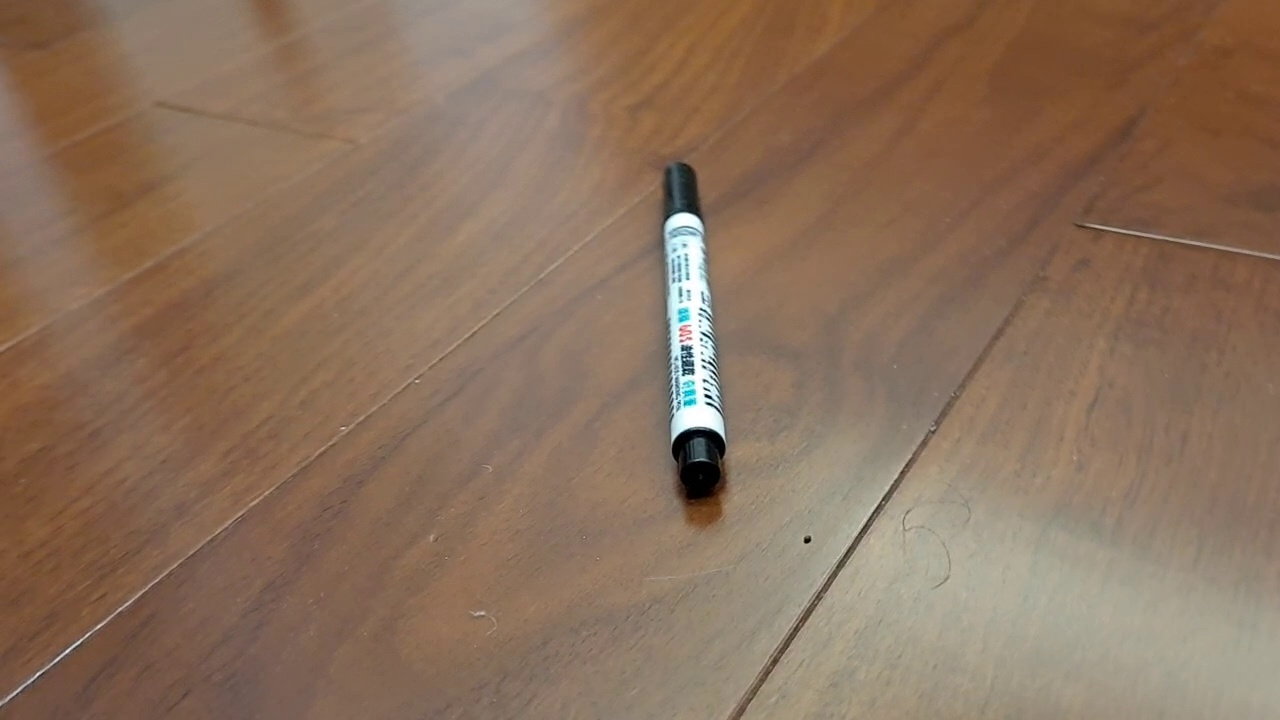pen: (660, 161, 729, 493)
